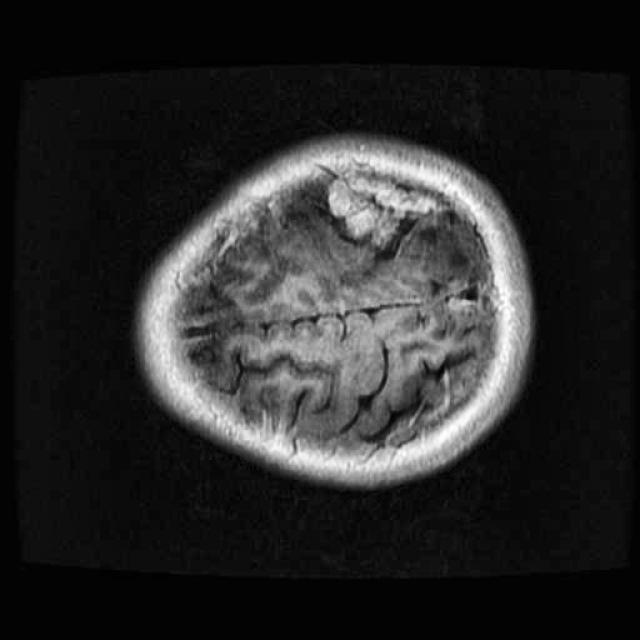Tumor: (308, 151, 474, 265)
